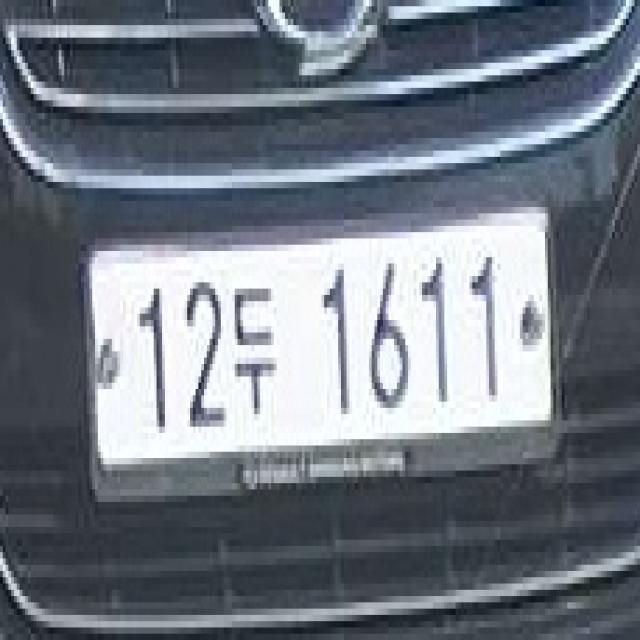1: (316, 257, 360, 427), (137, 270, 179, 445), (466, 245, 508, 420), (416, 245, 456, 420)
2: (185, 276, 229, 452)
6: (363, 258, 414, 420)
du: (232, 270, 279, 439)
license_plate: (78, 188, 562, 521)
